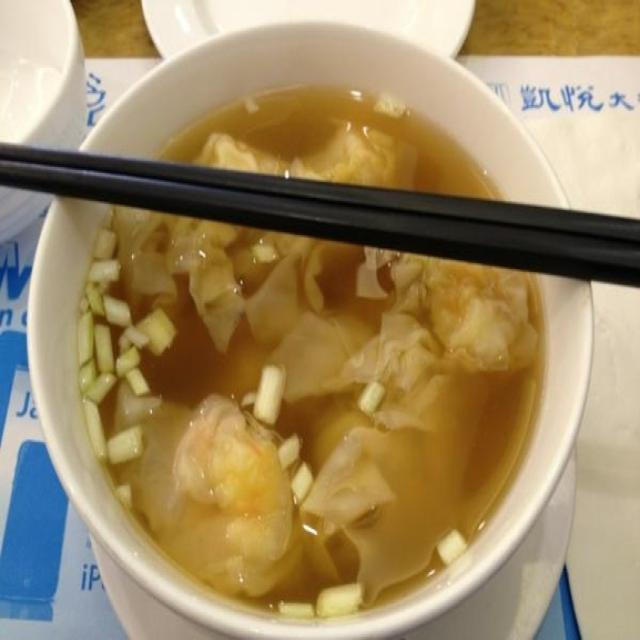汤锅炖物: (41, 37, 569, 615)
